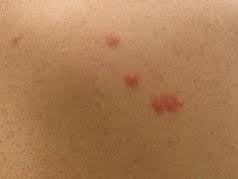Bed Bugs: (150, 91, 184, 113), (122, 70, 142, 91), (105, 33, 120, 47)
